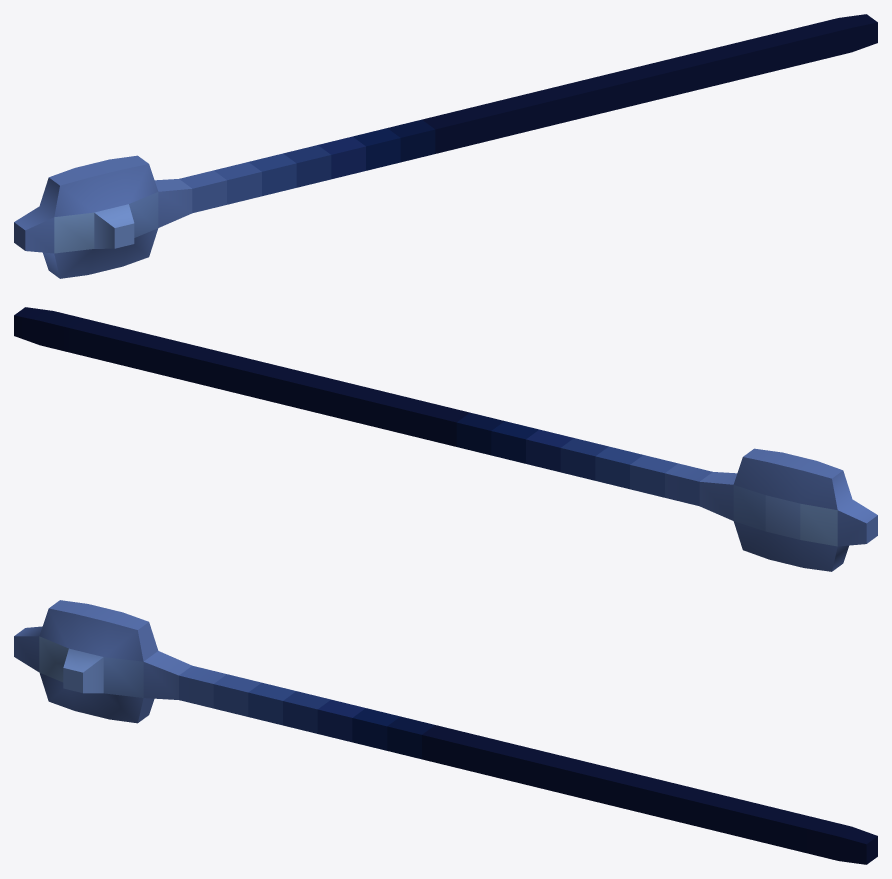
Rendered from Fight_026_2_24.obj.
The picture shows the model from 3 angles, top to bottom: view 1: azimuth 30°, elevation 25°; view 2: azimuth 150°, elevation 25°; view 3: azimuth 330°, elevation 25°; orthographic projection.
Size of the model in its own units: 2.46 by 0.2675 by 0.1783.
